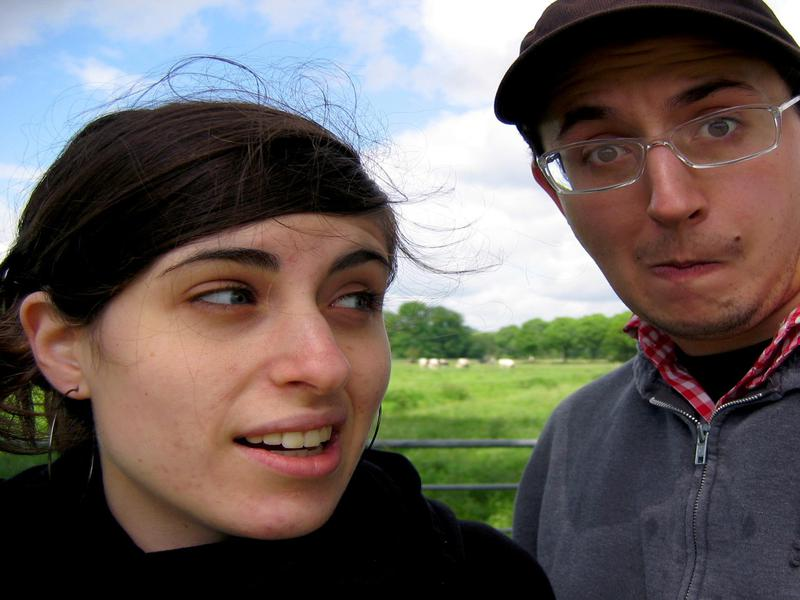person: (1, 63, 549, 600), (493, 2, 797, 600)
